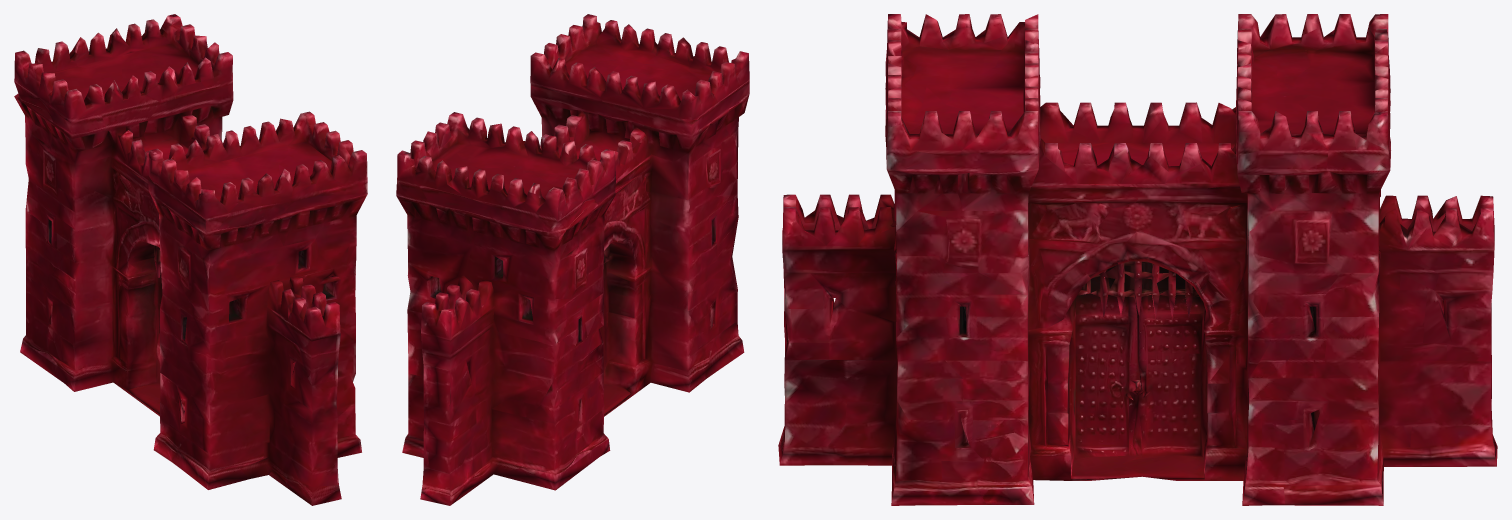
File: castle_gate_diamond_red.glb
3 views of the same model, side by side, from view 1: azimuth 30°, elevation 25°; view 2: azimuth 150°, elevation 25°; view 3: azimuth 270°, elevation 25° (orthographic). The views are drawn at different scales.
Visible parts, largest first — view 1: tripo_node_94610d24-0749-49c4-806e-9f129a96dc65; view 2: tripo_node_94610d24-0749-49c4-806e-9f129a96dc65; view 3: tripo_node_94610d24-0749-49c4-806e-9f129a96dc65.
Boxes of the visible parts, box(x1,y1,x2,y2) form: tripo_node_94610d24-0749-49c4-806e-9f129a96dc65: box(14, 14, 367, 505); tripo_node_94610d24-0749-49c4-806e-9f129a96dc65: box(396, 14, 749, 505); tripo_node_94610d24-0749-49c4-806e-9f129a96dc65: box(778, 14, 1497, 505).
Bounding box in the file's own units: 0.339 × 0.5917 × 0.9847.
Materials: 1 (1 with a texture image).
